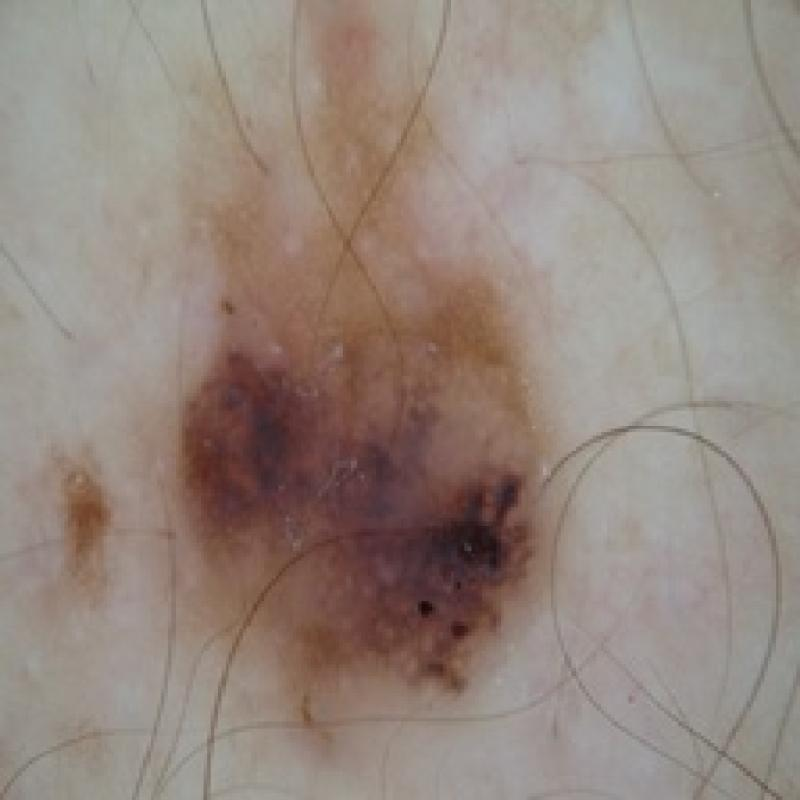malignant: (45, 7, 614, 754)
